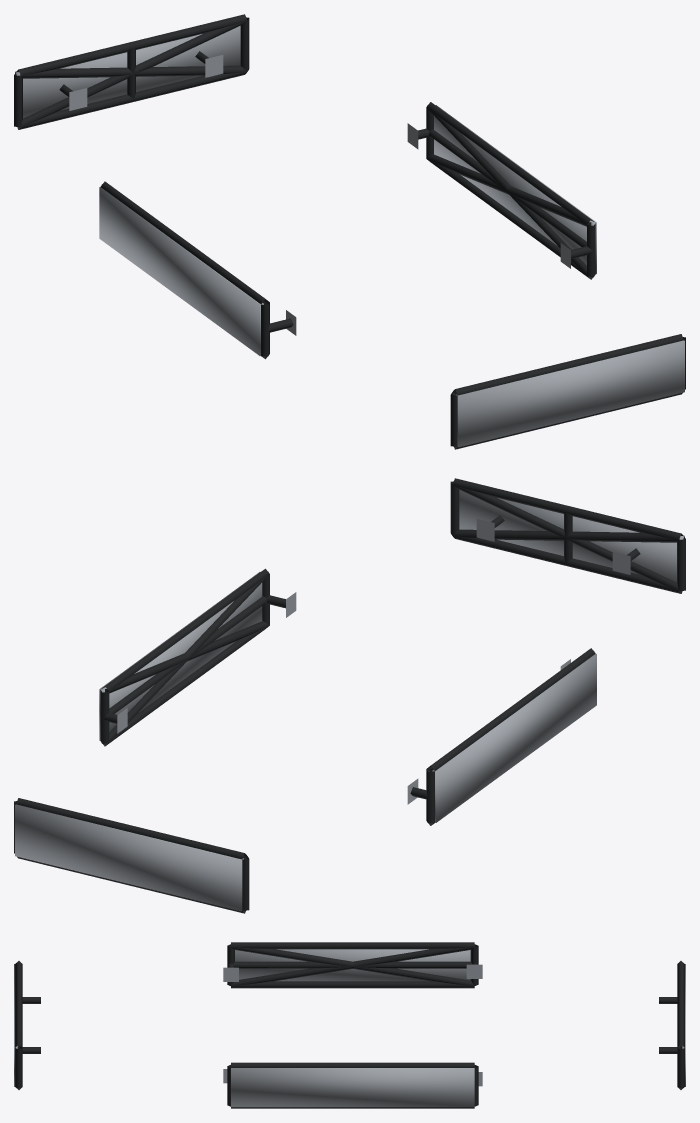
Rendered from feldhaus_estrado_protecao.glb.
3 views of the same model, one above another, from view 1: azimuth 30°, elevation 25°; view 2: azimuth 150°, elevation 25°; view 3: azimuth 270°, elevation 25° (orthographic). The views are drawn at different scales.
Visible parts, largest first — view 1: Protection_front_Level3_Details, Protection_left_Level3_Details, Protection_rear_Level1_Details, Protection_rear_Level3_Details, Protection_right_Level1_Details, Protection_rear_Level2_Details, Protection_right_Level2_Details, Protection_right_Level3_Details, Protection_front_Level1_Details, Protection_left_Level1_Details; view 2: Protection_rear_Level3_Details, Protection_left_Level3_Details, Protection_front_Level1_Details, Protection_front_Level3_Details, Protection_right_Level1_Details, Protection_front_Level2_Details, Protection_right_Level2_Details, Protection_right_Level3_Details, Protection_rear_Level1_Details, Protection_left_Level1_Details; view 3: Protection_right_Level3_Details, Protection_left_Level2_Details, Protection_left_Level1_Details, Protection_left_Level3_Details, Protection_right_Level1_Details, Protection_rear_Level1_Details, Protection_front_Level1_Details.
Boxes of the visible parts, x1=… form: Protection_front_Level3_Details: x1=456, y1=340, x2=684, y2=447; Protection_left_Level3_Details: x1=99, y1=187, x2=263, y2=355; Protection_rear_Level1_Details: x1=14, y1=14, x2=249, y2=129; Protection_rear_Level3_Details: x1=15, y1=26, x2=240, y2=118; Protection_right_Level1_Details: x1=407, y1=102, x2=595, y2=279; Protection_rear_Level2_Details: x1=16, y1=21, x2=246, y2=128; Protection_right_Level2_Details: x1=426, y1=108, x2=593, y2=279; Protection_right_Level3_Details: x1=434, y1=105, x2=596, y2=273; Protection_front_Level1_Details: x1=450, y1=334, x2=685, y2=449; Protection_left_Level1_Details: x1=100, y1=181, x2=296, y2=359; Protection_rear_Level3_Details: x1=15, y1=804, x2=243, y2=911; Protection_left_Level3_Details: x1=432, y1=654, x2=596, y2=822; Protection_front_Level1_Details: x1=450, y1=478, x2=685, y2=593; Protection_front_Level3_Details: x1=459, y1=490, x2=684, y2=582; Protection_right_Level1_Details: x1=100, y1=568, x2=296, y2=746; Protection_front_Level2_Details: x1=453, y1=485, x2=683, y2=592; Protection_right_Level2_Details: x1=101, y1=575, x2=269, y2=746; Protection_right_Level3_Details: x1=99, y1=572, x2=262, y2=740; Protection_rear_Level1_Details: x1=14, y1=798, x2=249, y2=913; Protection_left_Level1_Details: x1=407, y1=648, x2=595, y2=825; Protection_right_Level3_Details: x1=231, y1=1068, x2=474, y2=1107; Protection_left_Level2_Details: x1=230, y1=945, x2=474, y2=986; Protection_left_Level1_Details: x1=223, y1=942, x2=482, y2=988; Protection_left_Level3_Details: x1=235, y1=949, x2=470, y2=981; Protection_right_Level1_Details: x1=223, y1=1062, x2=482, y2=1108; Protection_rear_Level1_Details: x1=659, y1=961, x2=684, y2=1089; Protection_front_Level1_Details: x1=15, y1=961, x2=40, y2=1089.
Size of the model in its own units: 2.06 by 0.354 by 4.69.
1 material, 1 textured.
